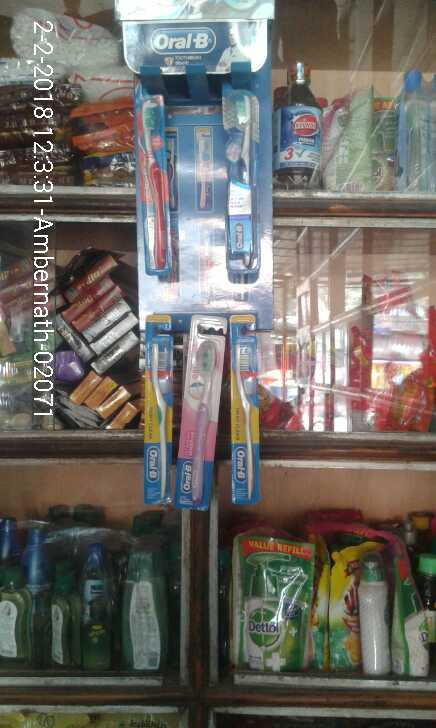oralb: (211, 89, 256, 274), (132, 98, 179, 274), (178, 329, 224, 505), (228, 326, 261, 496), (146, 324, 172, 503)
